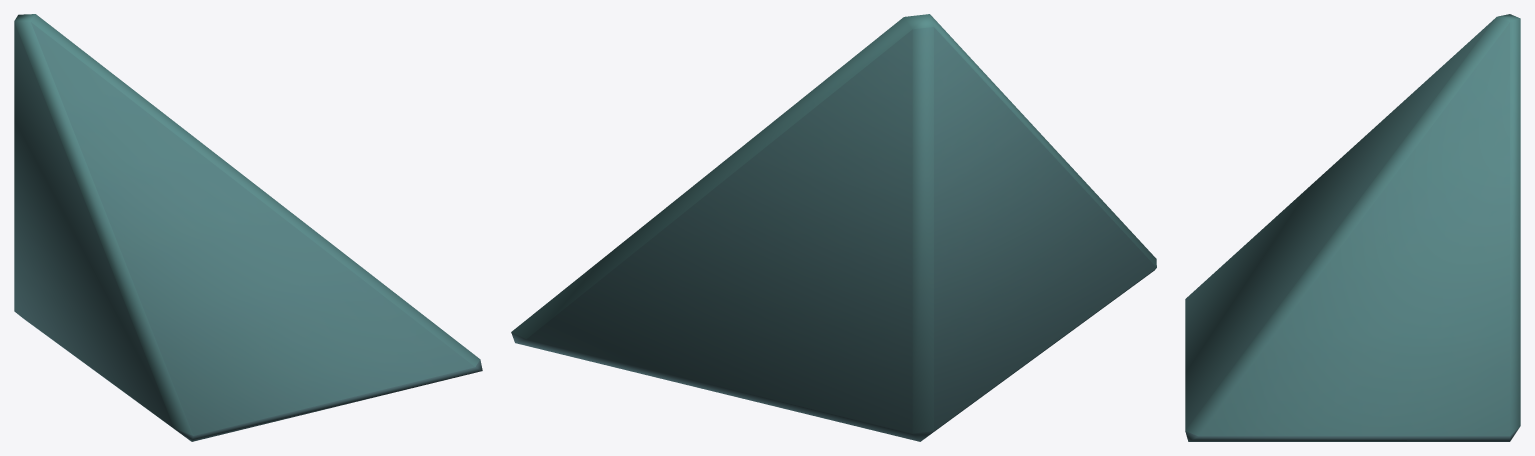
File: ramp_convex_hue_1.fbx
The picture shows the model from 3 angles, left to right: view 1: azimuth 30°, elevation 25°; view 2: azimuth 150°, elevation 25°; view 3: azimuth 270°, elevation 25°; orthographic projection. The views are drawn at different scales.
Parts seen in each view (by area): view 1: ramp_convex_hue_1; view 2: ramp_convex_hue_1; view 3: ramp_convex_hue_1.
Boxes of the visible parts, box(x1,y1,x2,y2) form: ramp_convex_hue_1: box(14, 14, 482, 441); ramp_convex_hue_1: box(511, 14, 1156, 441); ramp_convex_hue_1: box(1185, 14, 1520, 441).
Size of the model in its own units: 97.79 by 93.05 by 97.79.
